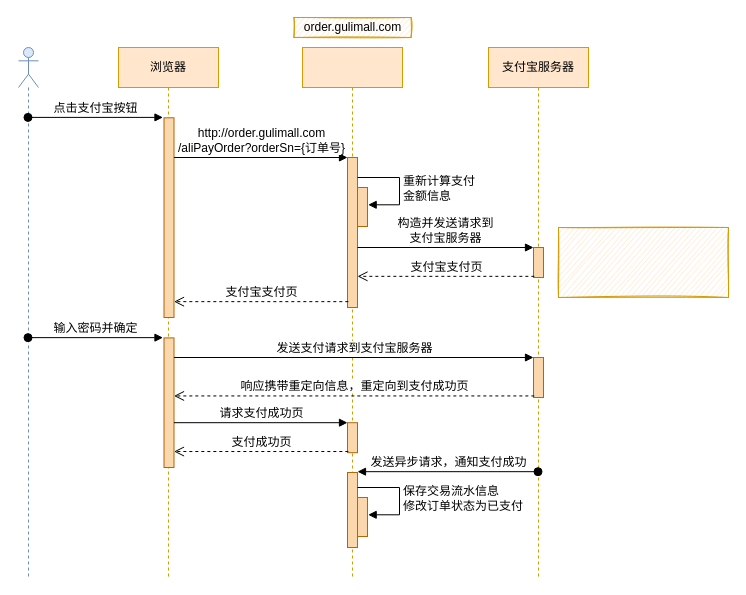
Some shapes in this 746 by 595 pixel diagram are drawn without their labels. Here are the shapes that lost their labels. From the top down, the centre of each, then its label:
At point (643, 262): "这个请求包含： ① 同步跳转地址：支付成功页 ② 异步请求地址：gulimall修改订单状态url".
At point (352, 312): "gulimall的服务".
